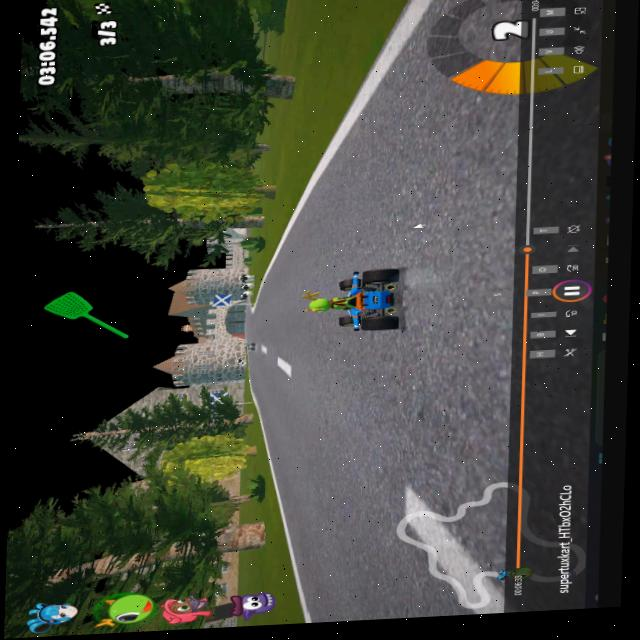enemy_kart: (242, 340, 255, 352)
player_kart: (297, 263, 414, 339)
track: (317, 328, 524, 621), (414, 0, 527, 333), (326, 136, 424, 267), (278, 339, 326, 501), (368, 52, 420, 138), (254, 277, 291, 393), (278, 196, 323, 273), (295, 498, 319, 567), (239, 309, 267, 341), (258, 389, 279, 421), (267, 417, 280, 455), (282, 499, 297, 520), (260, 268, 276, 279)
